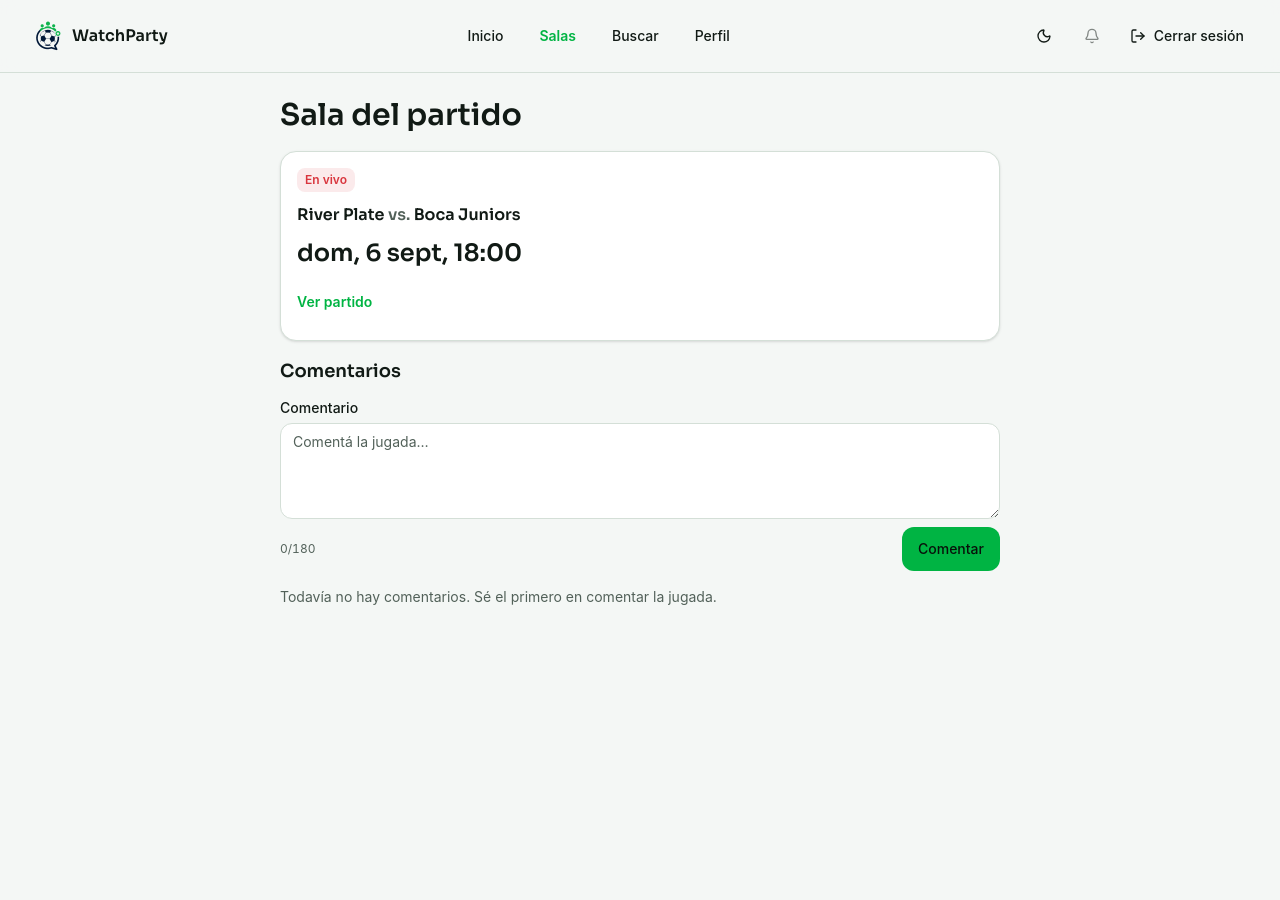
Test case: Sala: éxito › un comentario publicado aparece en la lista sin recargar
This screenshot has width=1280, height=900.
Expected: the text "Todavía no hay comentarios. Sé el primero en comentar la jugada." is shown, top-left (280, 588), bottom-right (717, 604)
In the text box labelled "Comentario": (640, 470) top-left (280, 422), bottom-right (1000, 518), type "¡Qué golazo!"
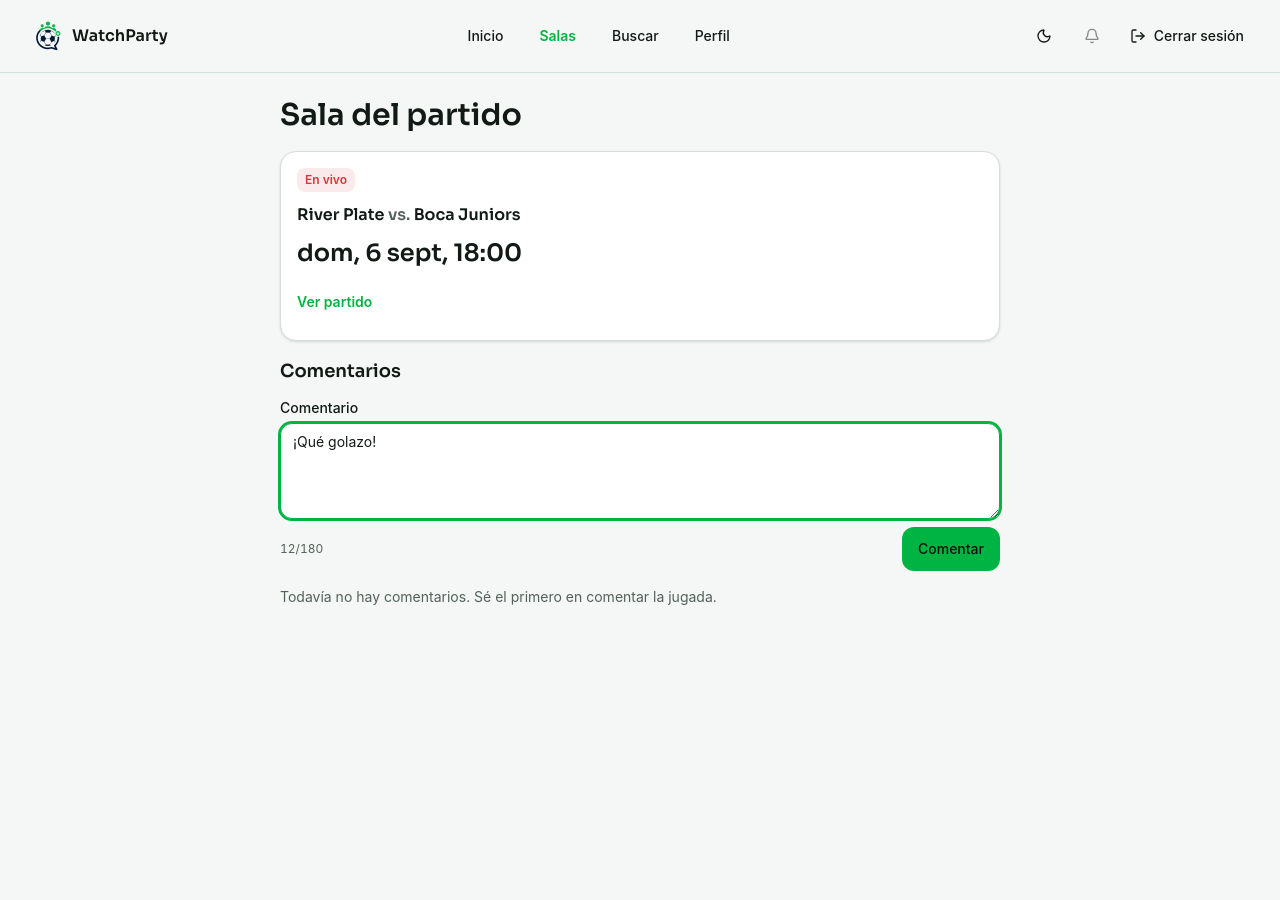
Click the button "Comentar": (951, 548) top-left (902, 526), bottom-right (1000, 570)
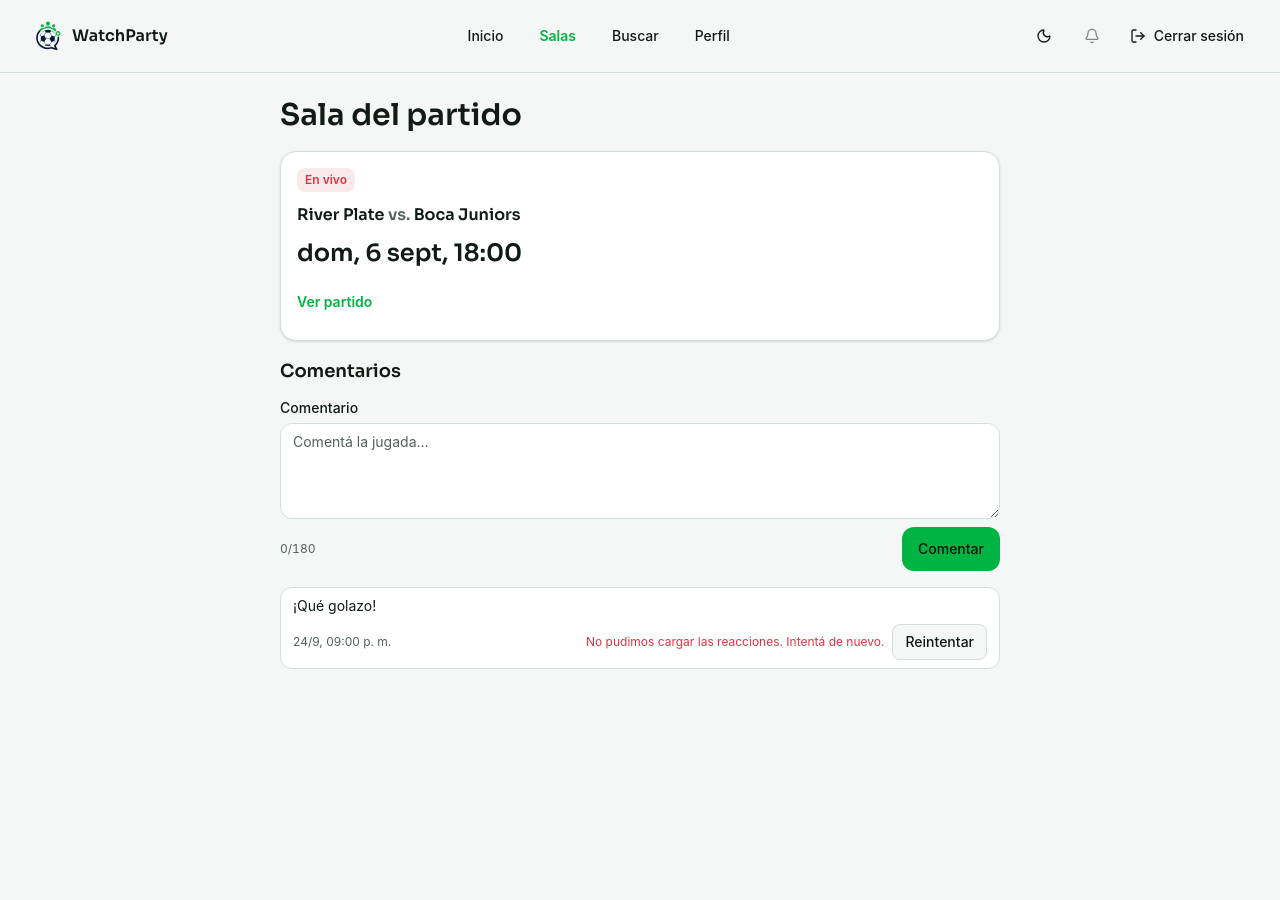
Expected: the text "¡Qué golazo!" is shown, top-left (293, 596), bottom-right (376, 614)
